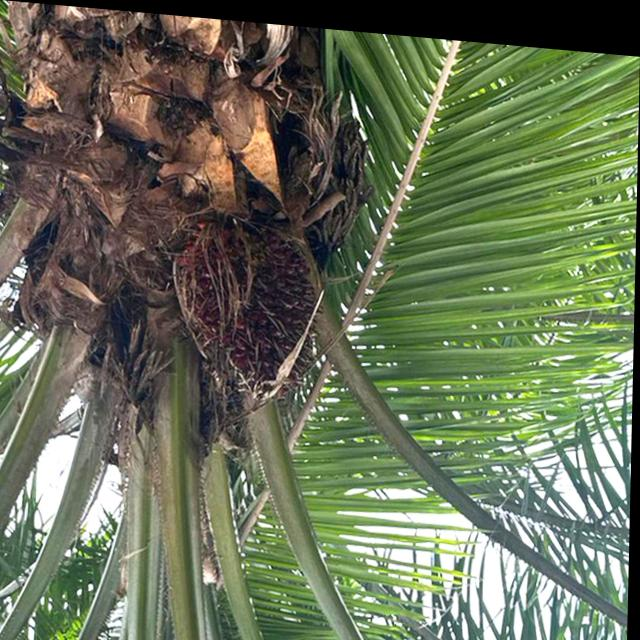ripe: (160, 193, 346, 415)
